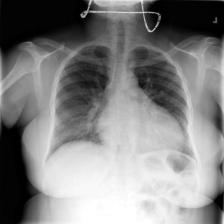normal: (42, 40, 201, 170)
